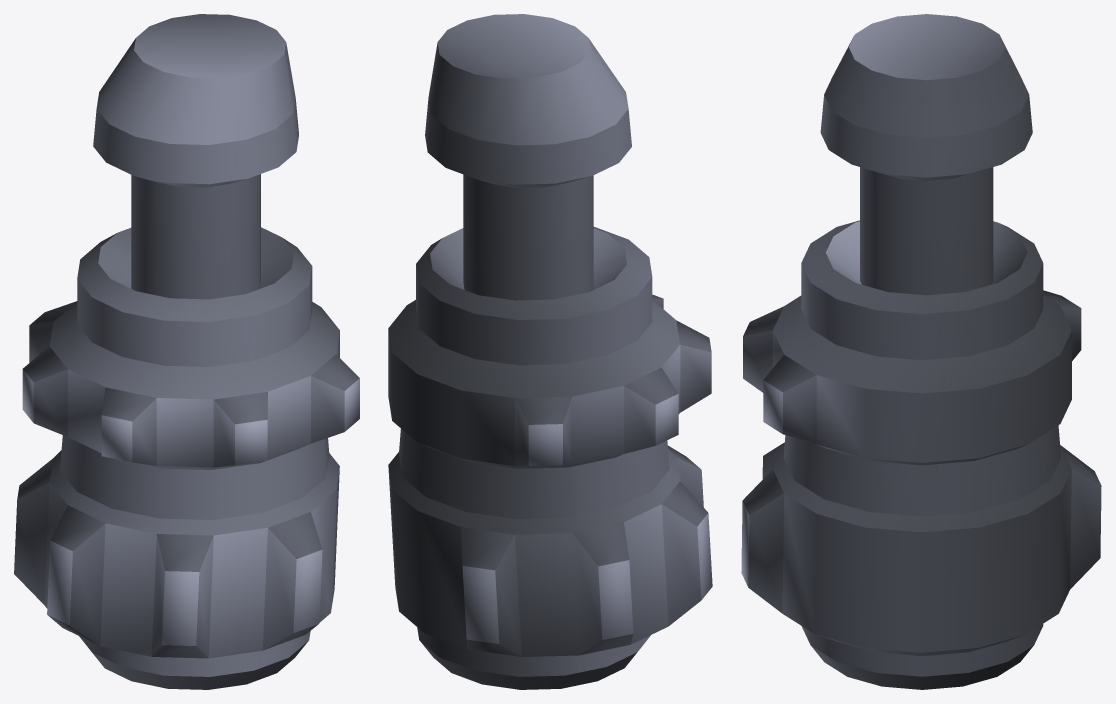
File: SpacePart_Cylinder_002.fbx
The picture shows the model from 3 angles, left to right: view 1: azimuth 30°, elevation 25°; view 2: azimuth 150°, elevation 25°; view 3: azimuth 270°, elevation 25°; orthographic projection. The views are drawn at different scales.
Visible parts, largest first — view 1: Cylinder.002; view 2: Cylinder.002; view 3: Cylinder.002.
Boxes of the visible parts, x1,y1,x2,y2 form: Cylinder.002: (14, 14, 359, 689); Cylinder.002: (388, 14, 712, 689); Cylinder.002: (741, 14, 1101, 689).
Bounding box in the file's own units: 3565 × 7133 × 3835.
